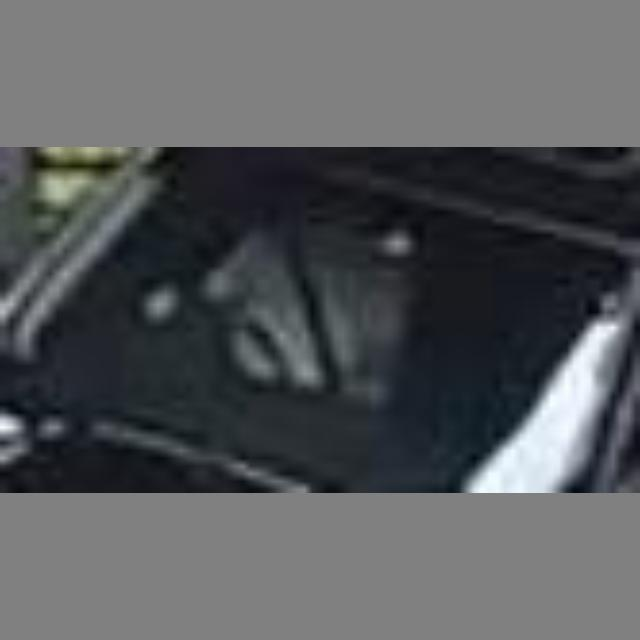pakai: (177, 209, 386, 394)
